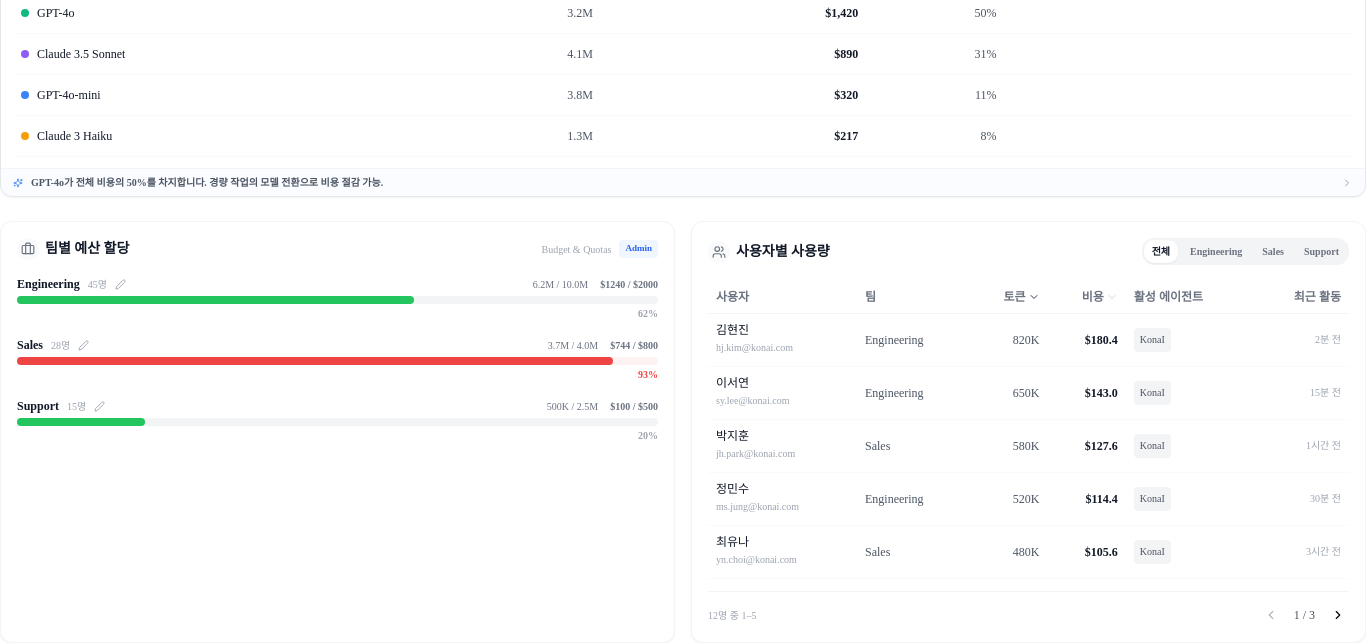
Test case: QA: UserUsageTable pagination edge cases › next button is disabled on last page
The width and height of the screenshot is (1366, 643).
(page scrolled)
Click the button named "다음 페이지": (1338, 615) [1327, 604, 1349, 626]
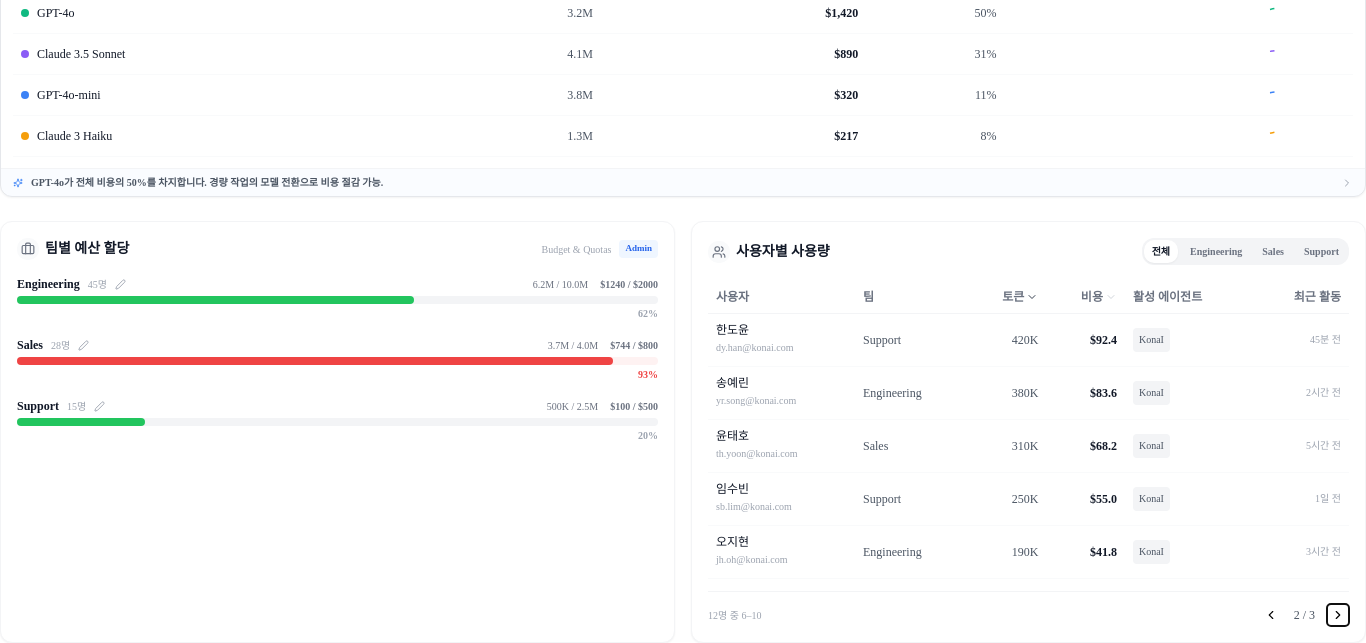
Click the button named "다음 페이지": (1338, 615) [1327, 604, 1349, 626]
(page scrolled)
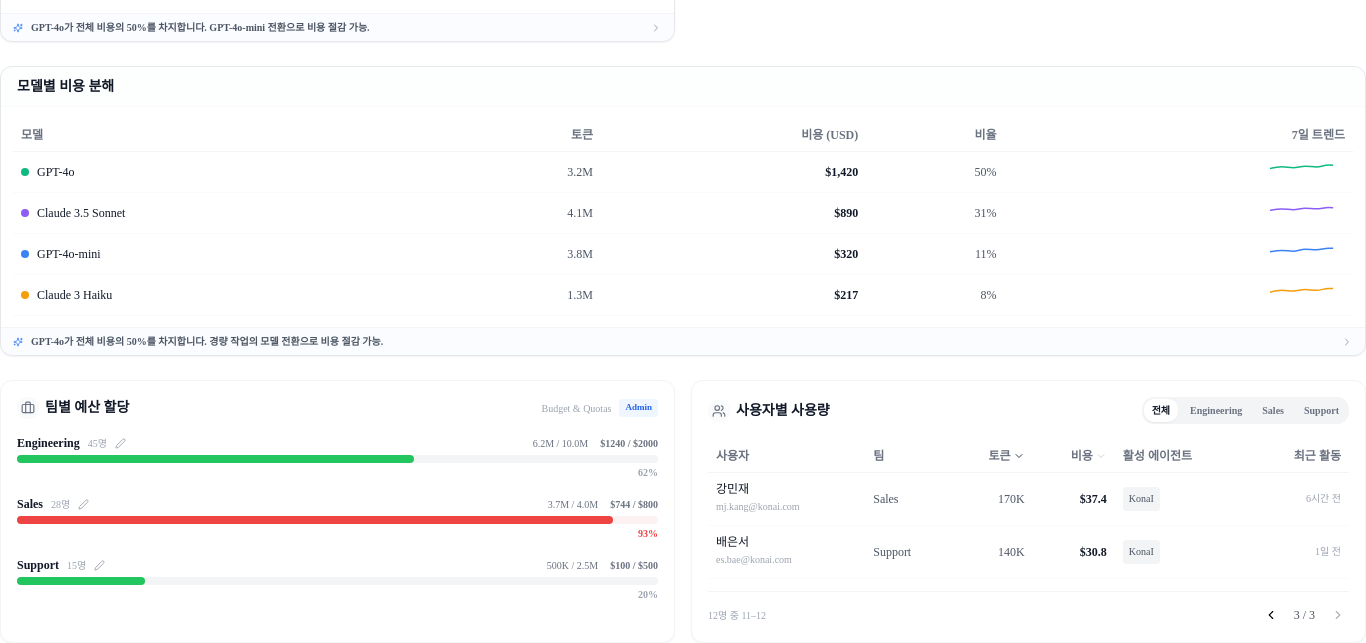
Result: the button named "다음 페이지" is disabled at [1327, 604, 1349, 626]
